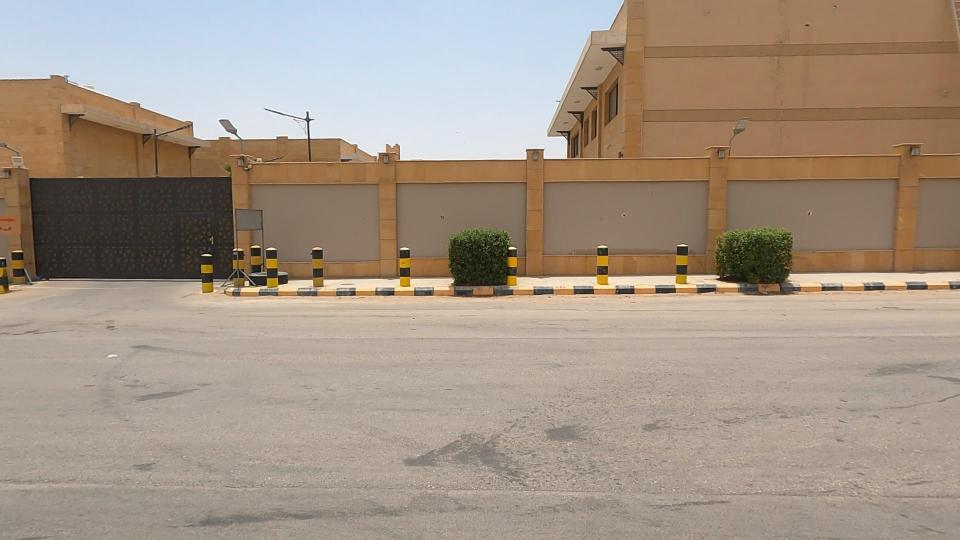GARBAGE: (227, 242, 312, 299)
